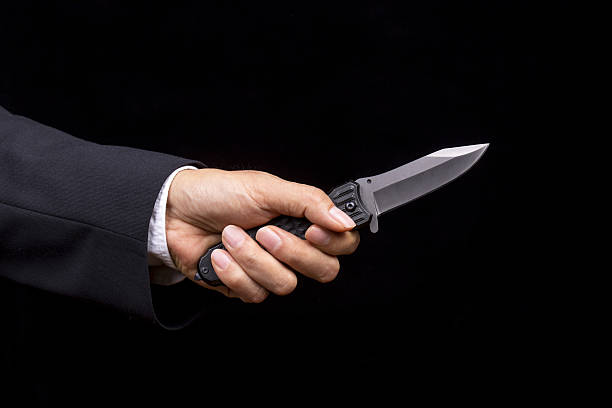knife: (196, 140, 488, 288)
